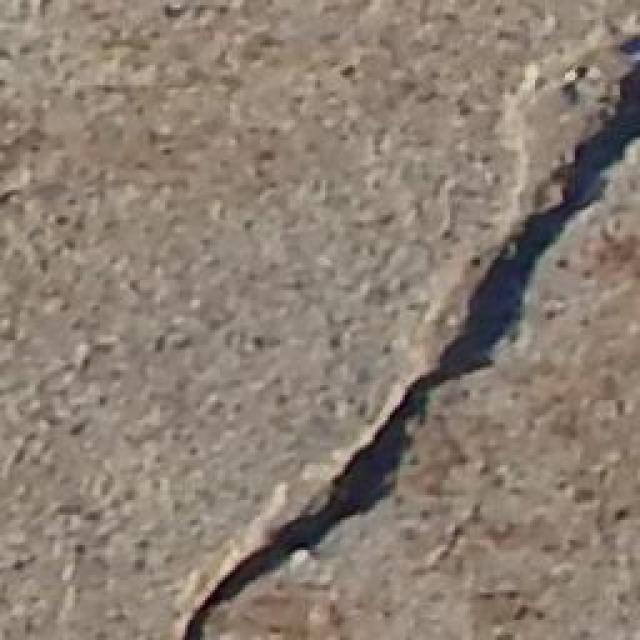concrete-crack: (175, 34, 640, 640)
